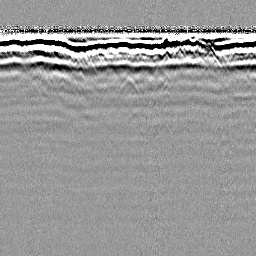cavity: (115, 73, 140, 97)
